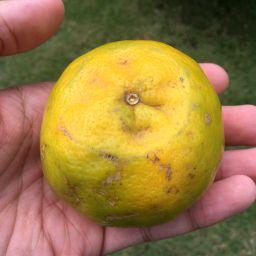Ripe: (39, 43, 222, 230)
